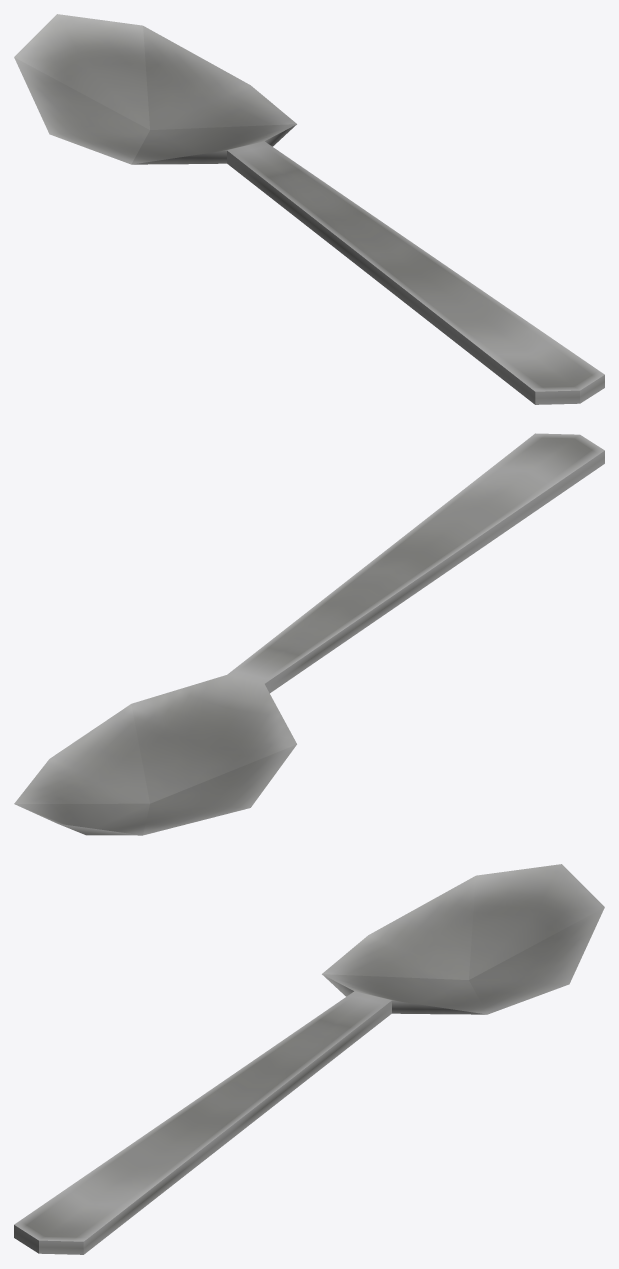
File: KR_Spoon_01_01.fbx
3 views of the same model, one above another, from view 1: azimuth 30°, elevation 25°; view 2: azimuth 150°, elevation 25°; view 3: azimuth 330°, elevation 25° (orthographic).
Visible parts, largest first — view 1: kr_spoon_01_01; view 2: kr_spoon_01_01; view 3: kr_spoon_01_01.
Boxes of the visible parts, x1,y1,x2,y2 form: kr_spoon_01_01: (14, 14, 604, 404); kr_spoon_01_01: (14, 433, 604, 835); kr_spoon_01_01: (14, 864, 604, 1254).
Bounding box in the file's own units: 4 × 1.08 × 18.
